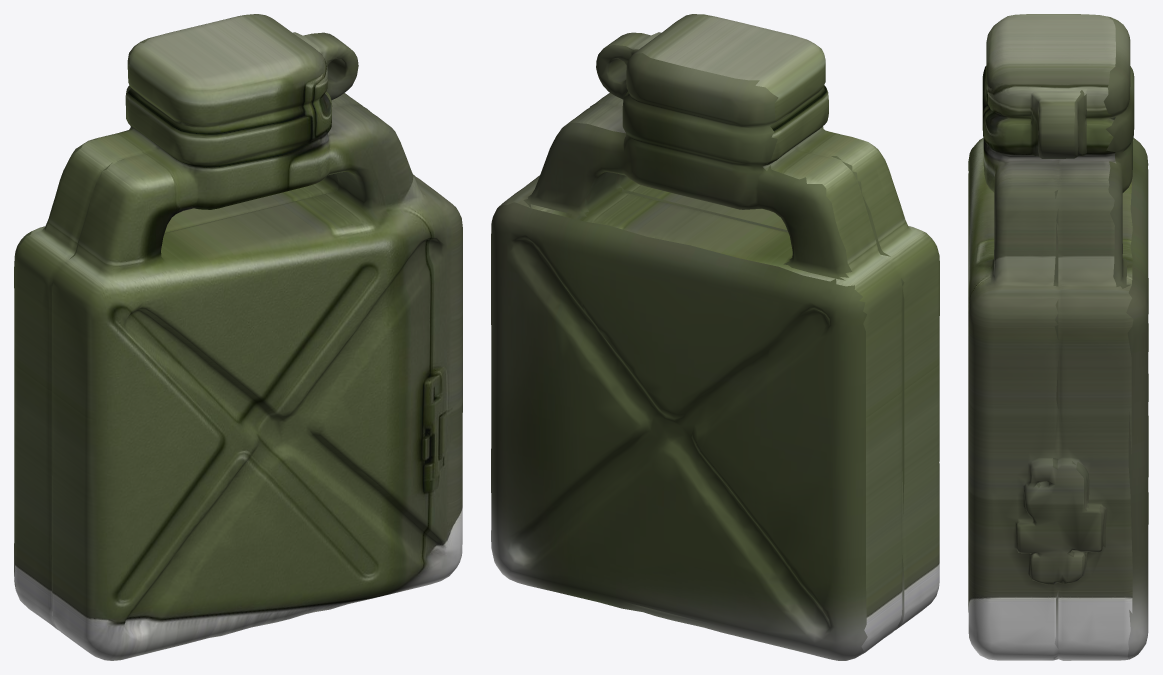
Rendered from jerrycan.glb.
3 views of the same model, side by side, from view 1: azimuth 30°, elevation 25°; view 2: azimuth 150°, elevation 25°; view 3: azimuth 270°, elevation 25° (orthographic). The views are drawn at different scales.
Visible parts, largest first — view 1: jerrycan; view 2: jerrycan; view 3: jerrycan.
Part boxes in pixels (left/top/right/bottom): jerrycan: left=14, top=14, right=462, bottom=660; jerrycan: left=491, top=14, right=939, bottom=660; jerrycan: left=968, top=14, right=1148, bottom=660.
Bounding box in the file's own units: 7 × 9.56 × 2.93.
Materials: 1 (1 with a texture image).
